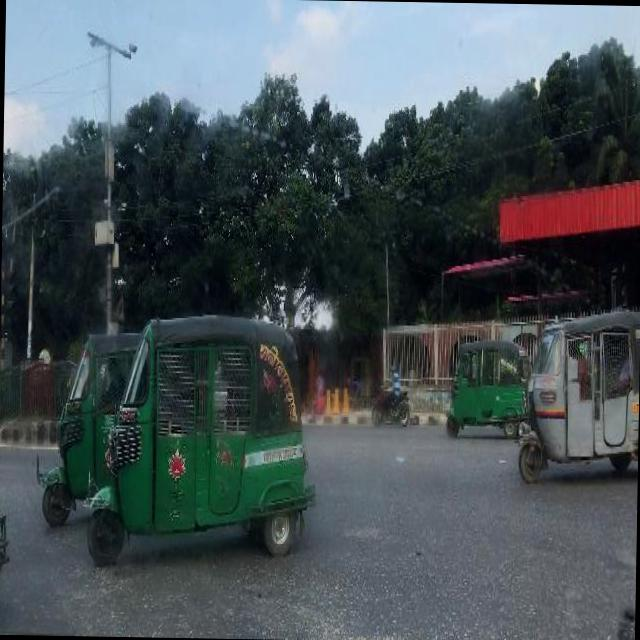motorcycle: (112, 315, 312, 565), (513, 300, 640, 492), (34, 330, 116, 530), (444, 335, 532, 441), (369, 363, 412, 430)
